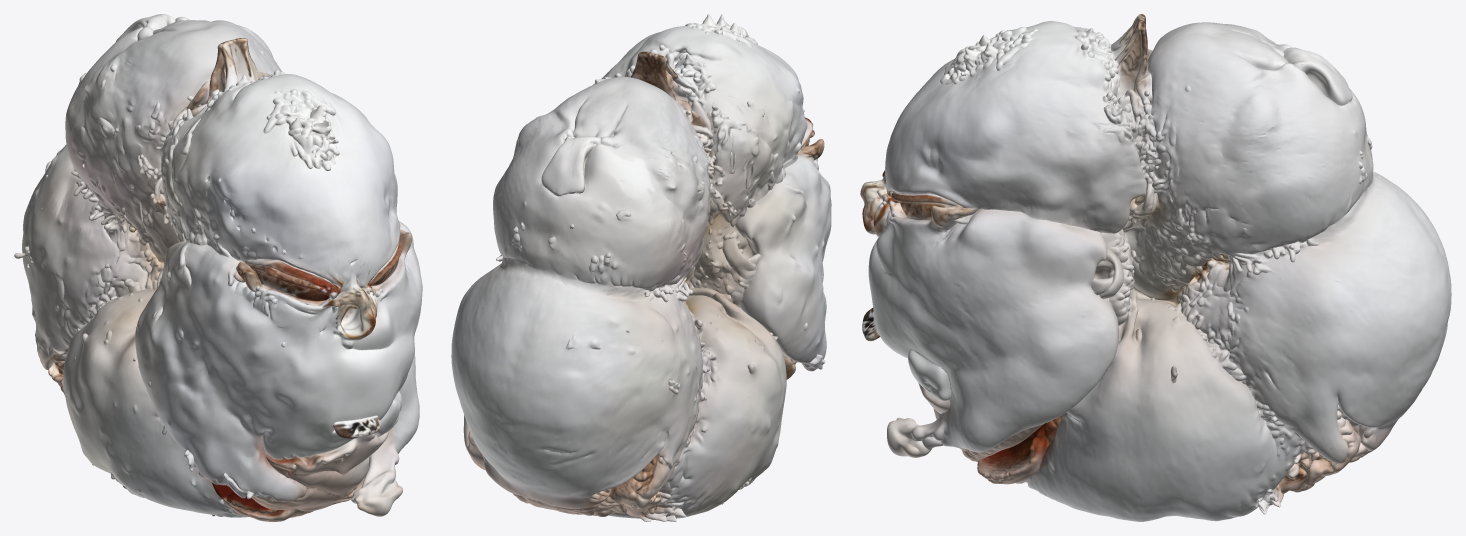
Rendered from base_basic_pbr.fbx.
3 views of the same model, side by side, from view 1: azimuth 30°, elevation 25°; view 2: azimuth 150°, elevation 25°; view 3: azimuth 270°, elevation 25° (orthographic). The views are drawn at different scales.
Parts seen in each view (by area): view 1: model; view 2: model; view 3: model.
Boxes of the visible parts, x1,y1,x2,y2 form: model: [14, 14, 422, 521]; model: [451, 14, 831, 521]; model: [860, 14, 1451, 521].
Bounding box in the file's own units: 109 × 164 × 190.
Materials: 1 (1 with a texture image).
